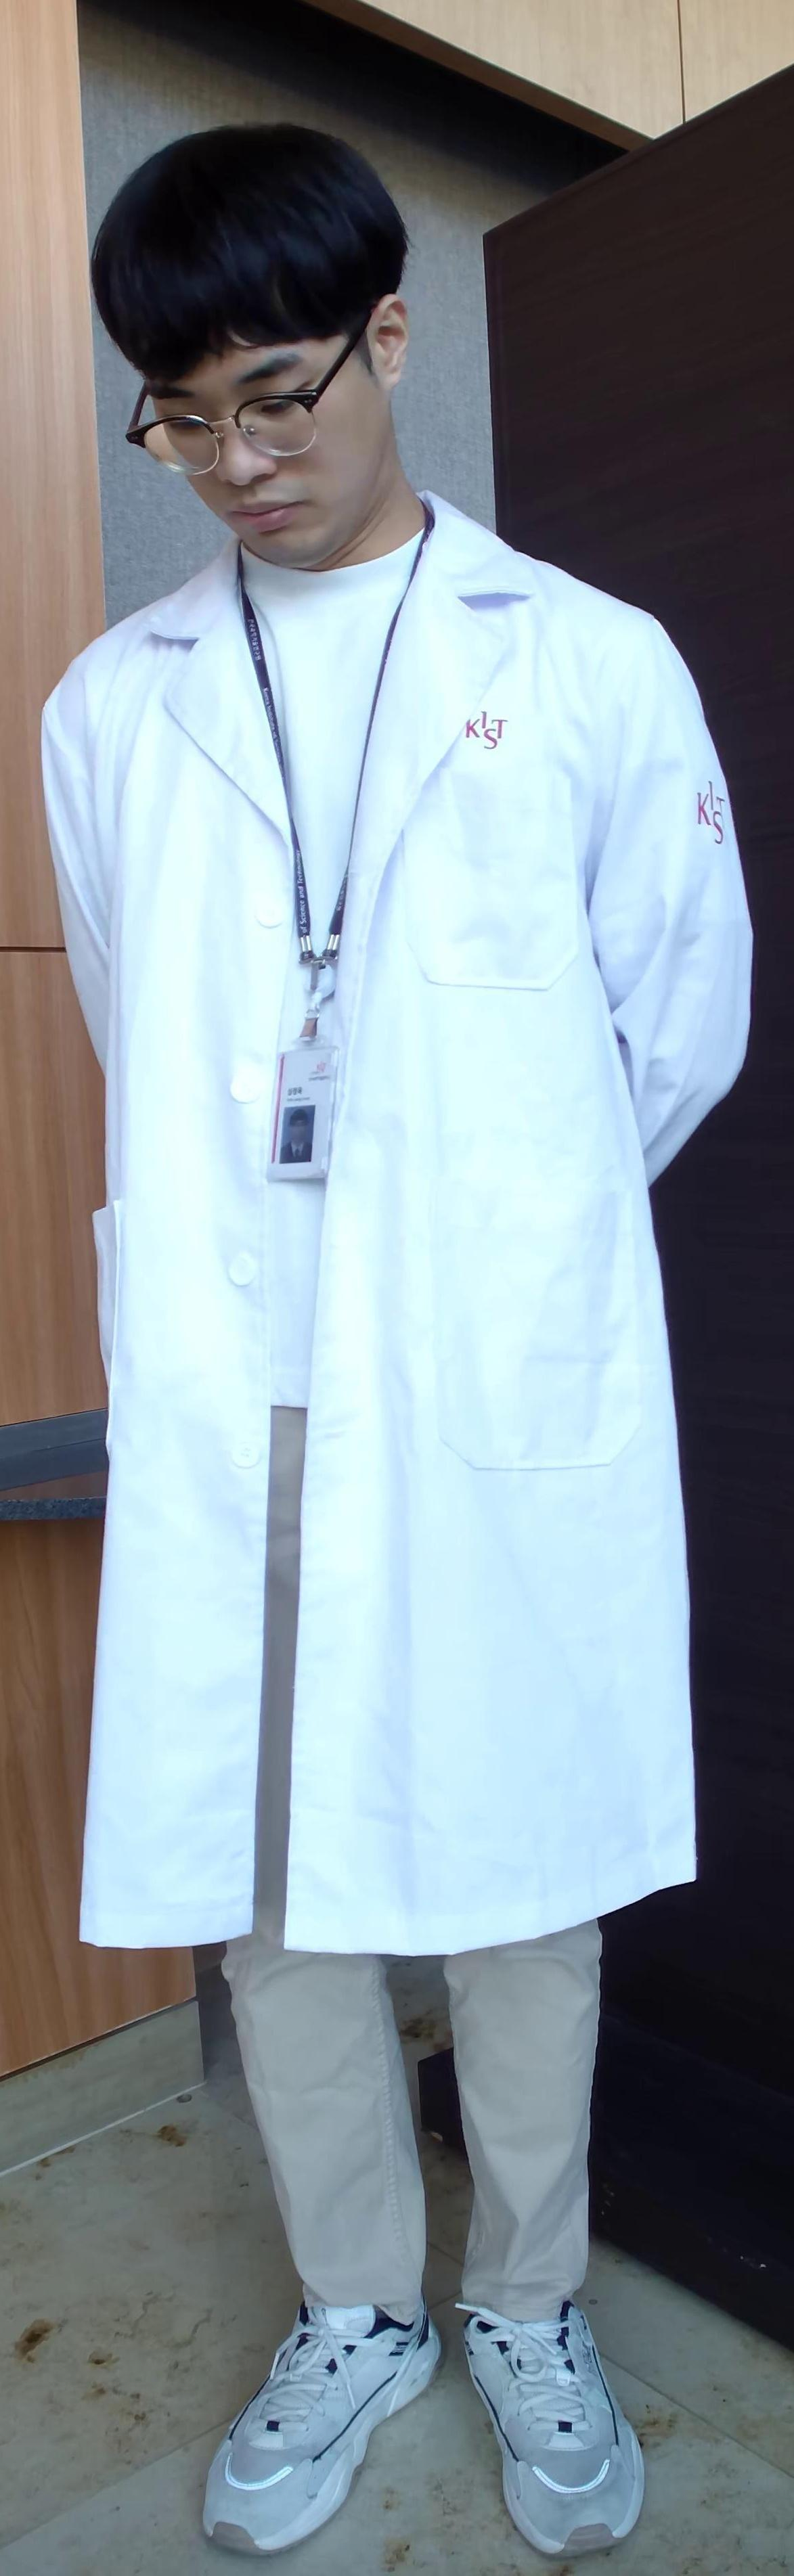lab_coat: (8, 596, 771, 1932)
